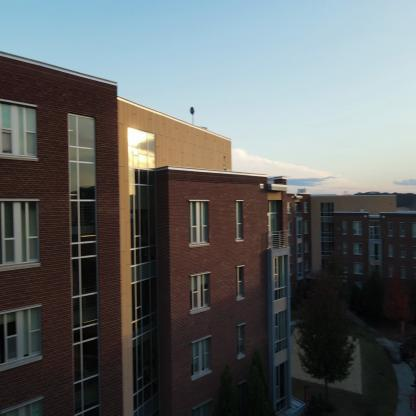Wolf Ridge: (0, 41, 415, 362)
